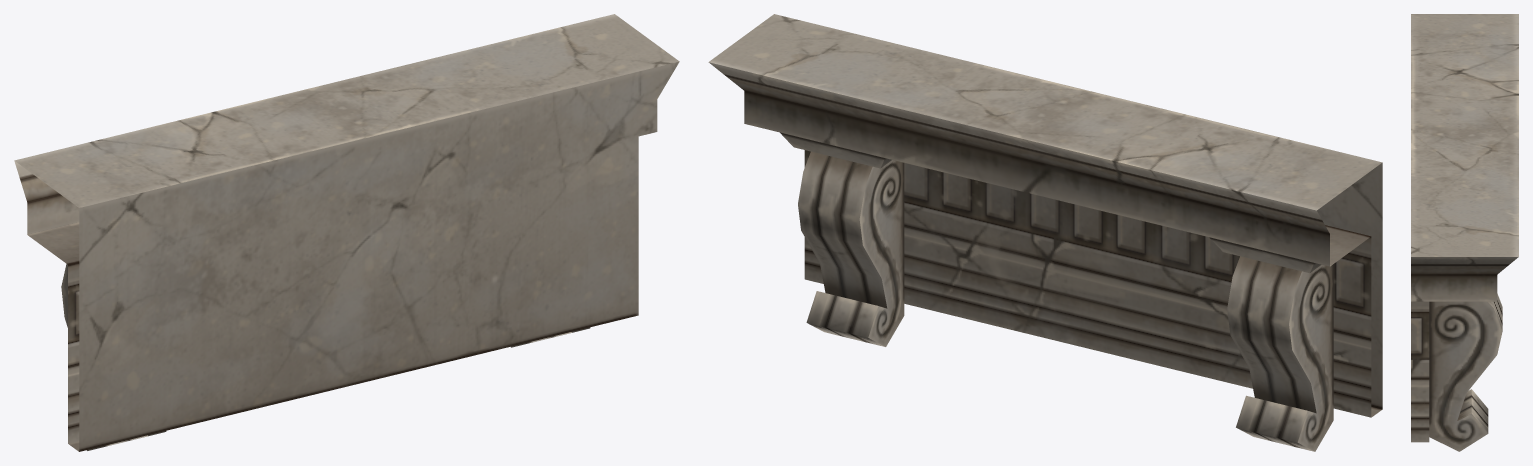
The model's file is ARC0110002.fbx.
3 renders of one model, left to right at view 1: azimuth 30°, elevation 25°; view 2: azimuth 150°, elevation 25°; view 3: azimuth 270°, elevation 25°, orthographic. The views are drawn at different scales.
Visible parts, largest first — view 1: smARC0110002; view 2: smARC0110002; view 3: smARC0110002.
Boxes of the visible parts, x1=… form: smARC0110002: x1=14, y1=14, x2=679, y2=451; smARC0110002: x1=708, y1=14, x2=1382, y2=451; smARC0110002: x1=1411, y1=14, x2=1518, y2=451.
Size of the model in its own units: 347 by 151 by 65.
Materials: 1 (1 with a texture image).
